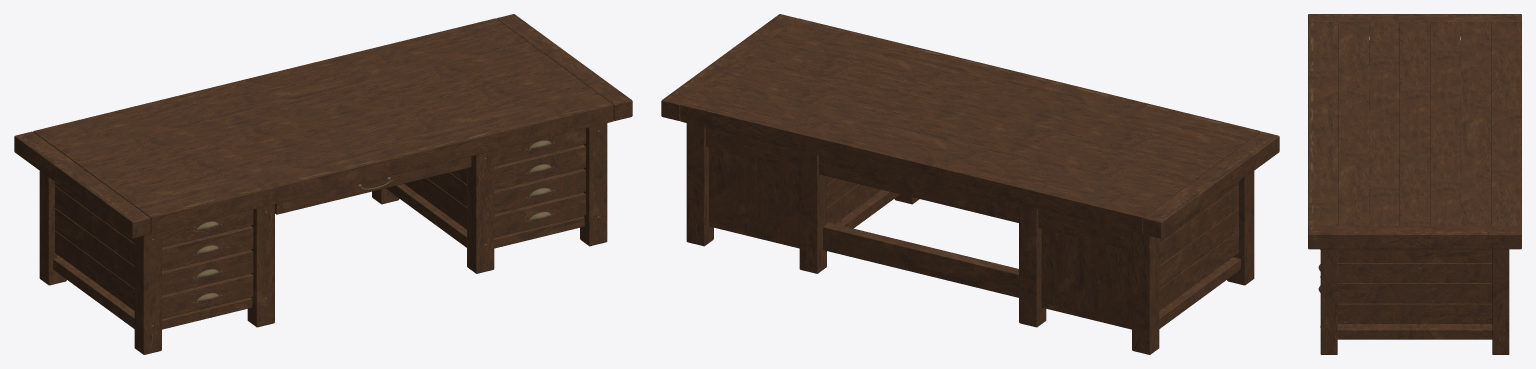
Rendered from workbench.glb.
The picture shows the model from 3 angles, left to right: view 1: azimuth 30°, elevation 25°; view 2: azimuth 150°, elevation 25°; view 3: azimuth 270°, elevation 25°; orthographic projection. The views are drawn at different scales.
Visible parts, largest first — view 1: GEO-top-Workbench_Walnut, GEO-frame-Workbench_Walnut, GEO-center-drawer-Workbench_Walnut, GEO-right-drawer-4-Workbench_Walnut, GEO-left-drawer-2-Workbench_Walnut, GEO-right-drawer-3-Workbench_Walnut, GEO-left-drawer-4-Workbench_Walnut, GEO-left-drawer-3-Workbench_Walnut, GEO-right-drawer-2-Workbench_Walnut, GEO-right-drawer-1-Workbench_Walnut, GEO-left-drawer-1-Workbench_Walnut; view 2: GEO-top-Workbench_Walnut, GEO-frame-Workbench_Walnut; view 3: GEO-top-Workbench_Walnut, GEO-frame-Workbench_Walnut, GEO-patina-Workbench_Patina.
Part boxes in pixels (x1,y1,x2,y2): GEO-top-Workbench_Walnut: [14, 14, 632, 238]; GEO-frame-Workbench_Walnut: [39, 123, 607, 354]; GEO-center-drawer-Workbench_Walnut: [275, 156, 471, 214]; GEO-right-drawer-4-Workbench_Walnut: [494, 192, 585, 237]; GEO-left-drawer-2-Workbench_Walnut: [162, 226, 253, 270]; GEO-right-drawer-3-Workbench_Walnut: [494, 168, 585, 213]; GEO-left-drawer-4-Workbench_Walnut: [162, 273, 253, 318]; GEO-left-drawer-3-Workbench_Walnut: [162, 249, 253, 294]; GEO-right-drawer-2-Workbench_Walnut: [494, 145, 585, 189]; GEO-right-drawer-1-Workbench_Walnut: [494, 128, 585, 166]; GEO-left-drawer-1-Workbench_Walnut: [162, 209, 253, 247]; GEO-top-Workbench_Walnut: [661, 14, 1279, 238]; GEO-frame-Workbench_Walnut: [686, 123, 1254, 354]; GEO-top-Workbench_Walnut: [1308, 14, 1521, 249]; GEO-frame-Workbench_Walnut: [1320, 40, 1509, 354]; GEO-patina-Workbench_Patina: [1311, 14, 1517, 233].
Bounding box in the file's own units: 3.1 × 0.8462 × 1.27.
Materials: 4 (4 with a texture image).
